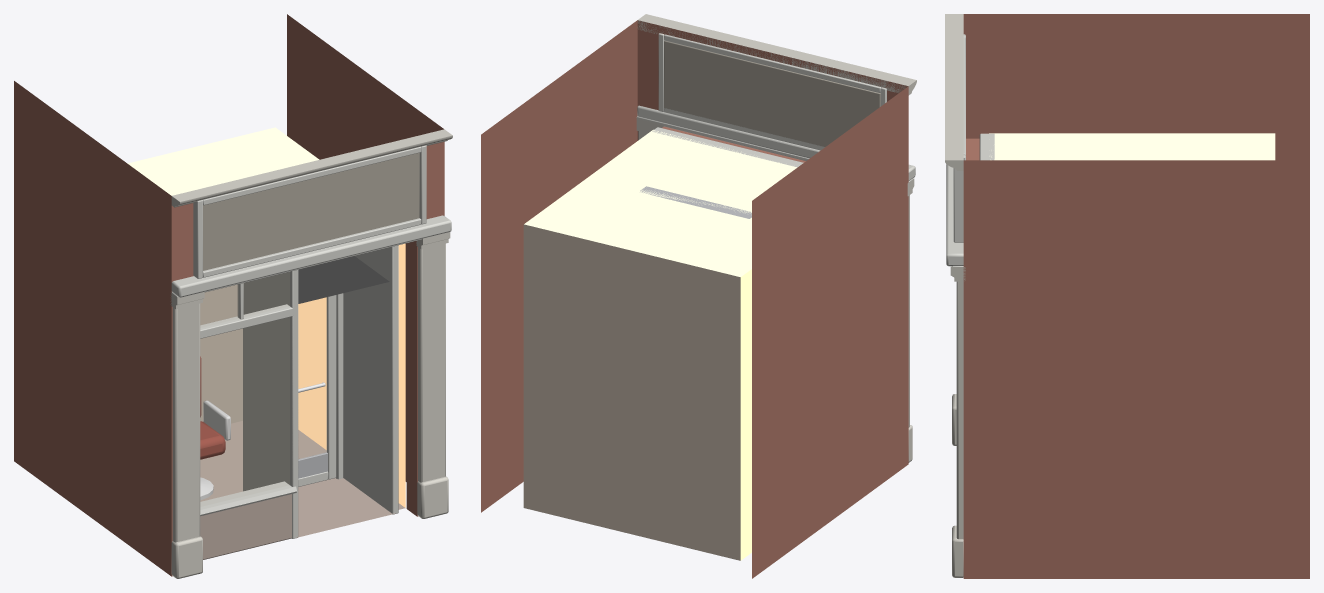
Rendered from shop_lit_3a.glb.
The picture shows the model from 3 angles, left to right: view 1: azimuth 30°, elevation 25°; view 2: azimuth 150°, elevation 25°; view 3: azimuth 270°, elevation 25°; orthographic projection. The views are drawn at different scales.
Parts seen in each view (by area): view 1: shop_lit_3a; view 2: shop_lit_3a; view 3: shop_lit_3a.
Boxes of the visible parts, <box> form: shop_lit_3a: <box>14,14,452,578</box>; shop_lit_3a: <box>481,14,916,578</box>; shop_lit_3a: <box>945,14,1309,578</box>.
Size of the model in its own units: 3 by 4 by 3.16.
